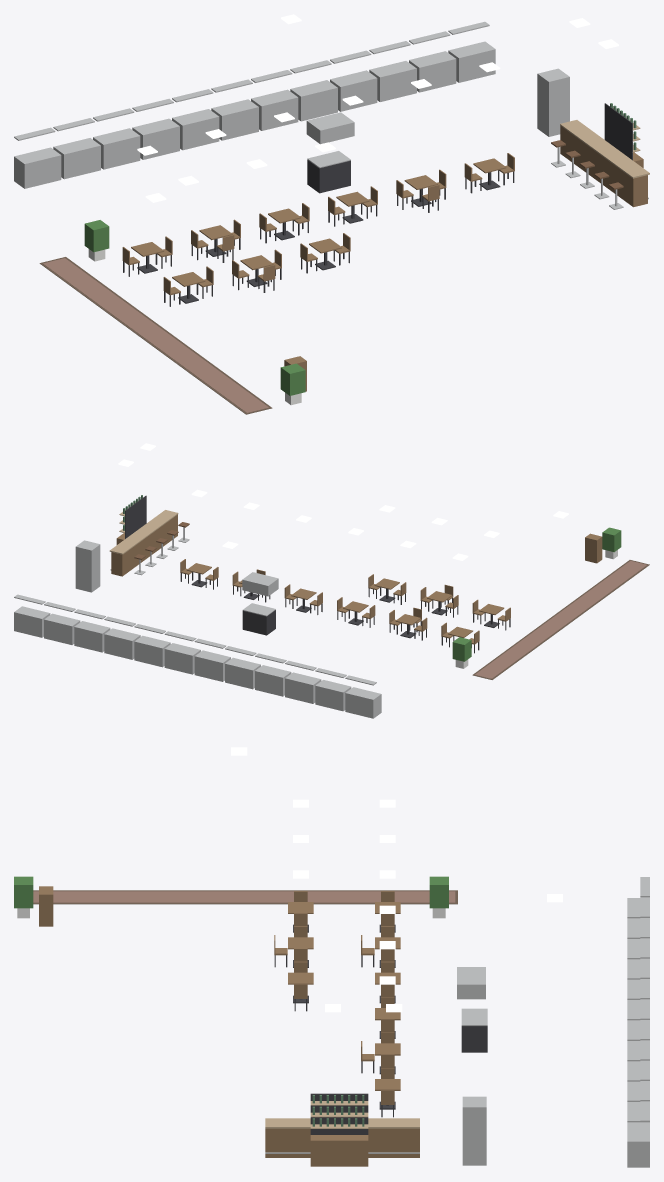
File: fine-s0.glb
The picture shows the model from 3 angles, top to bottom: view 1: azimuth 30°, elevation 25°; view 2: azimuth 150°, elevation 25°; view 3: azimuth 270°, elevation 25°; orthographic projection. The views are drawn at different scales.
Parts seen in each view (by area): view 1: soft-s0, range.000, fridge.000, kitchen-counter.000, kitchen-counter.007, kitchen-counter.001, kitchen-counter.002, kitchen-counter.009, kitchen-counter.005, kitchen-counter.004, kitchen-counter.010, kitchen-counter.011 (+10 smaller); view 2: soft-s0, range.000, fridge.000, kitchen-counter.000, kitchen-counter.010, kitchen-counter.006, kitchen-counter.007, kitchen-counter.002, kitchen-counter.009, kitchen-counter.008, kitchen-counter.005, kitchen-counter.001 (+11 smaller); view 3: soft-s0, back-bar.000, range.000, fridge.000, bar-counter.000, bar-counter.003, kitchen-counter.011, plant-medium.001, plant-medium.000, host-stand.000.
Boxes of the visible parts, x1,y1,x2,y2 form: soft-s0: (39,257,272,414); range.000: (306,112,354,193); fridge.000: (537,68,569,136); kitchen-counter.000: (14,127,61,188); kitchen-counter.007: (290,60,337,121); kitchen-counter.001: (53,118,100,179); kitchen-counter.002: (93,108,140,169); kitchen-counter.009: (369,41,416,101); kitchen-counter.005: (211,79,258,140); kitchen-counter.004: (172,89,219,150); kitchen-counter.010: (409,31,456,92); kitchen-counter.011: (448,21,495,82); soft-s0: (472,560,649,679); range.000: (242,572,278,635); fridge.000: (75,540,100,592); kitchen-counter.000: (345,675,381,718); kitchen-counter.010: (44,602,80,644); kitchen-counter.006: (164,631,200,674); kitchen-counter.007: (134,624,170,667); kitchen-counter.002: (285,660,321,703); kitchen-counter.009: (74,609,110,652); kitchen-counter.008: (104,616,140,659); kitchen-counter.005: (194,638,230,681); kitchen-counter.001: (315,668,351,711); soft-s0: (33,890,457,904); back-bar.000: (310,1093,368,1166); range.000: (457,967,487,1052); fridge.000: (462,1096,486,1165); bar-counter.000: (381,1118,419,1157); bar-counter.003: (265,1118,303,1157); kitchen-counter.011: (627,1101,649,1167); plant-medium.001: (429,876,448,918); plant-medium.000: (14,876,33,918); host-stand.000: (39,886,53,926).
Size of the model in its own units: 20.38 by 5.03 by 19.77.
